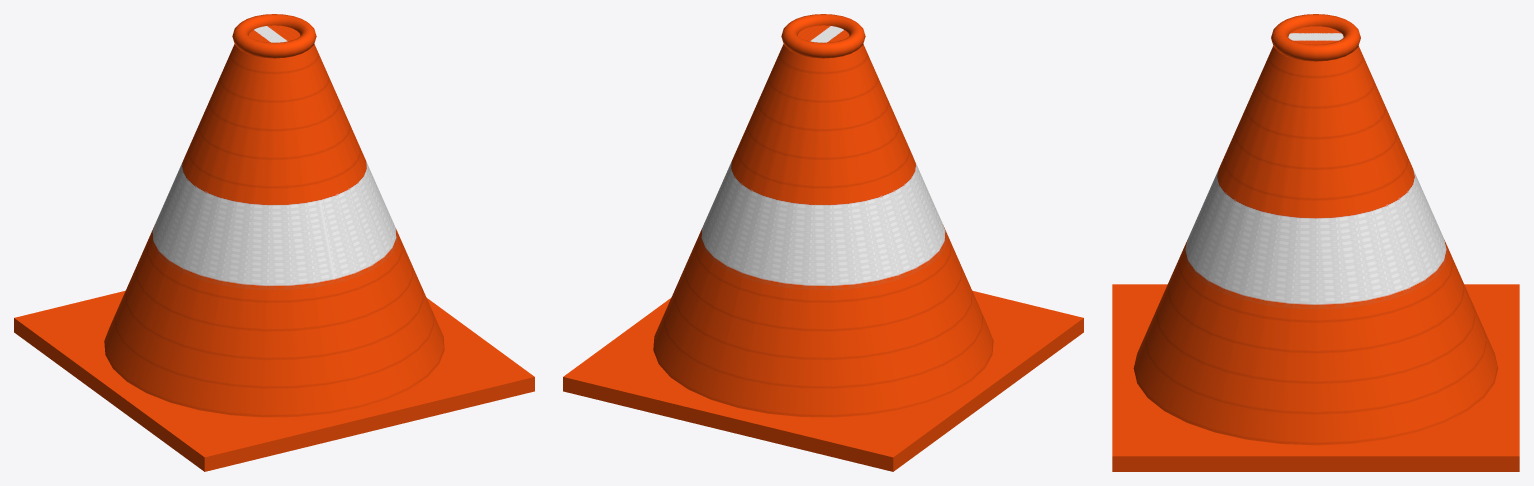
3 renders of one model, left to right at view 1: azimuth 30°, elevation 25°; view 2: azimuth 150°, elevation 25°; view 3: azimuth 270°, elevation 25°, orthographic. The views are drawn at different scales.
Size of the model in its own units: 1.9 by 1.83 by 1.9.
Materials: 2 (1 with a texture image).
